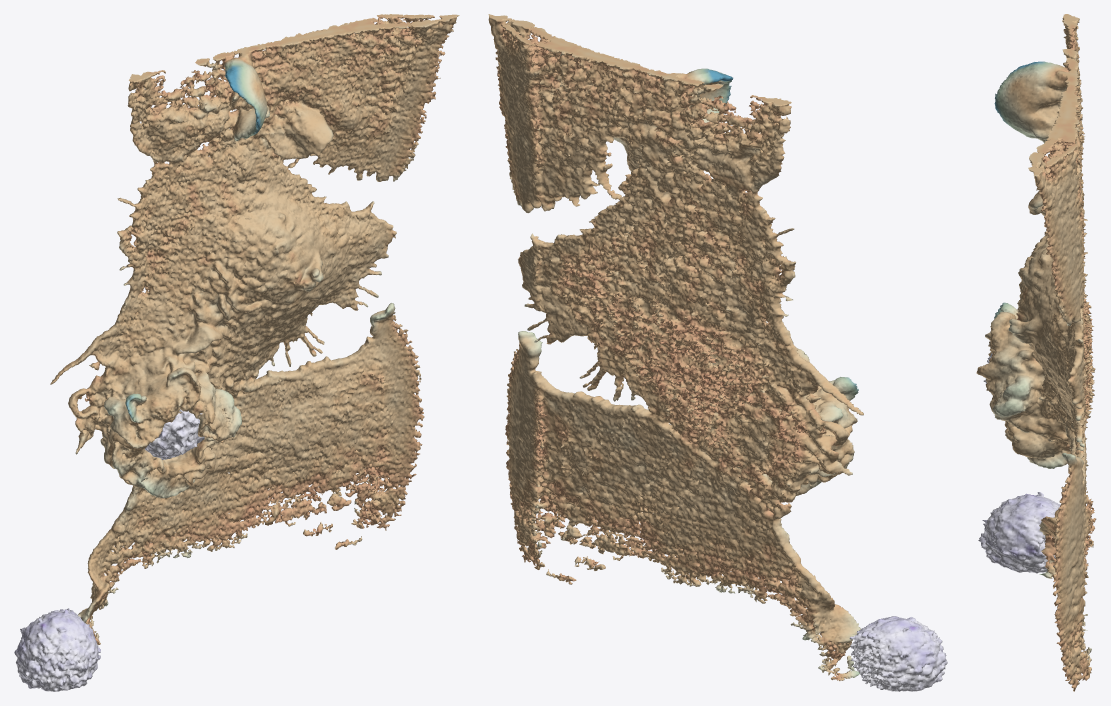
Rendered from Surfaces_10.glb.
3 renders of one model, left to right at view 1: azimuth 30°, elevation 25°; view 2: azimuth 150°, elevation 25°; view 3: azimuth 270°, elevation 25°, orthographic. The views are drawn at different scales.
Visible parts, largest first — view 1: surface (×2); view 2: surface (×2); view 3: surface (×2).
Part boxes in pixels (x1,y1,x2,y2): surface (×2): (14, 14, 459, 691); surface (×2): (488, 14, 947, 691); surface (×2): (976, 14, 1096, 691).
Size of the model in its own units: 632 by 764 by 141.
